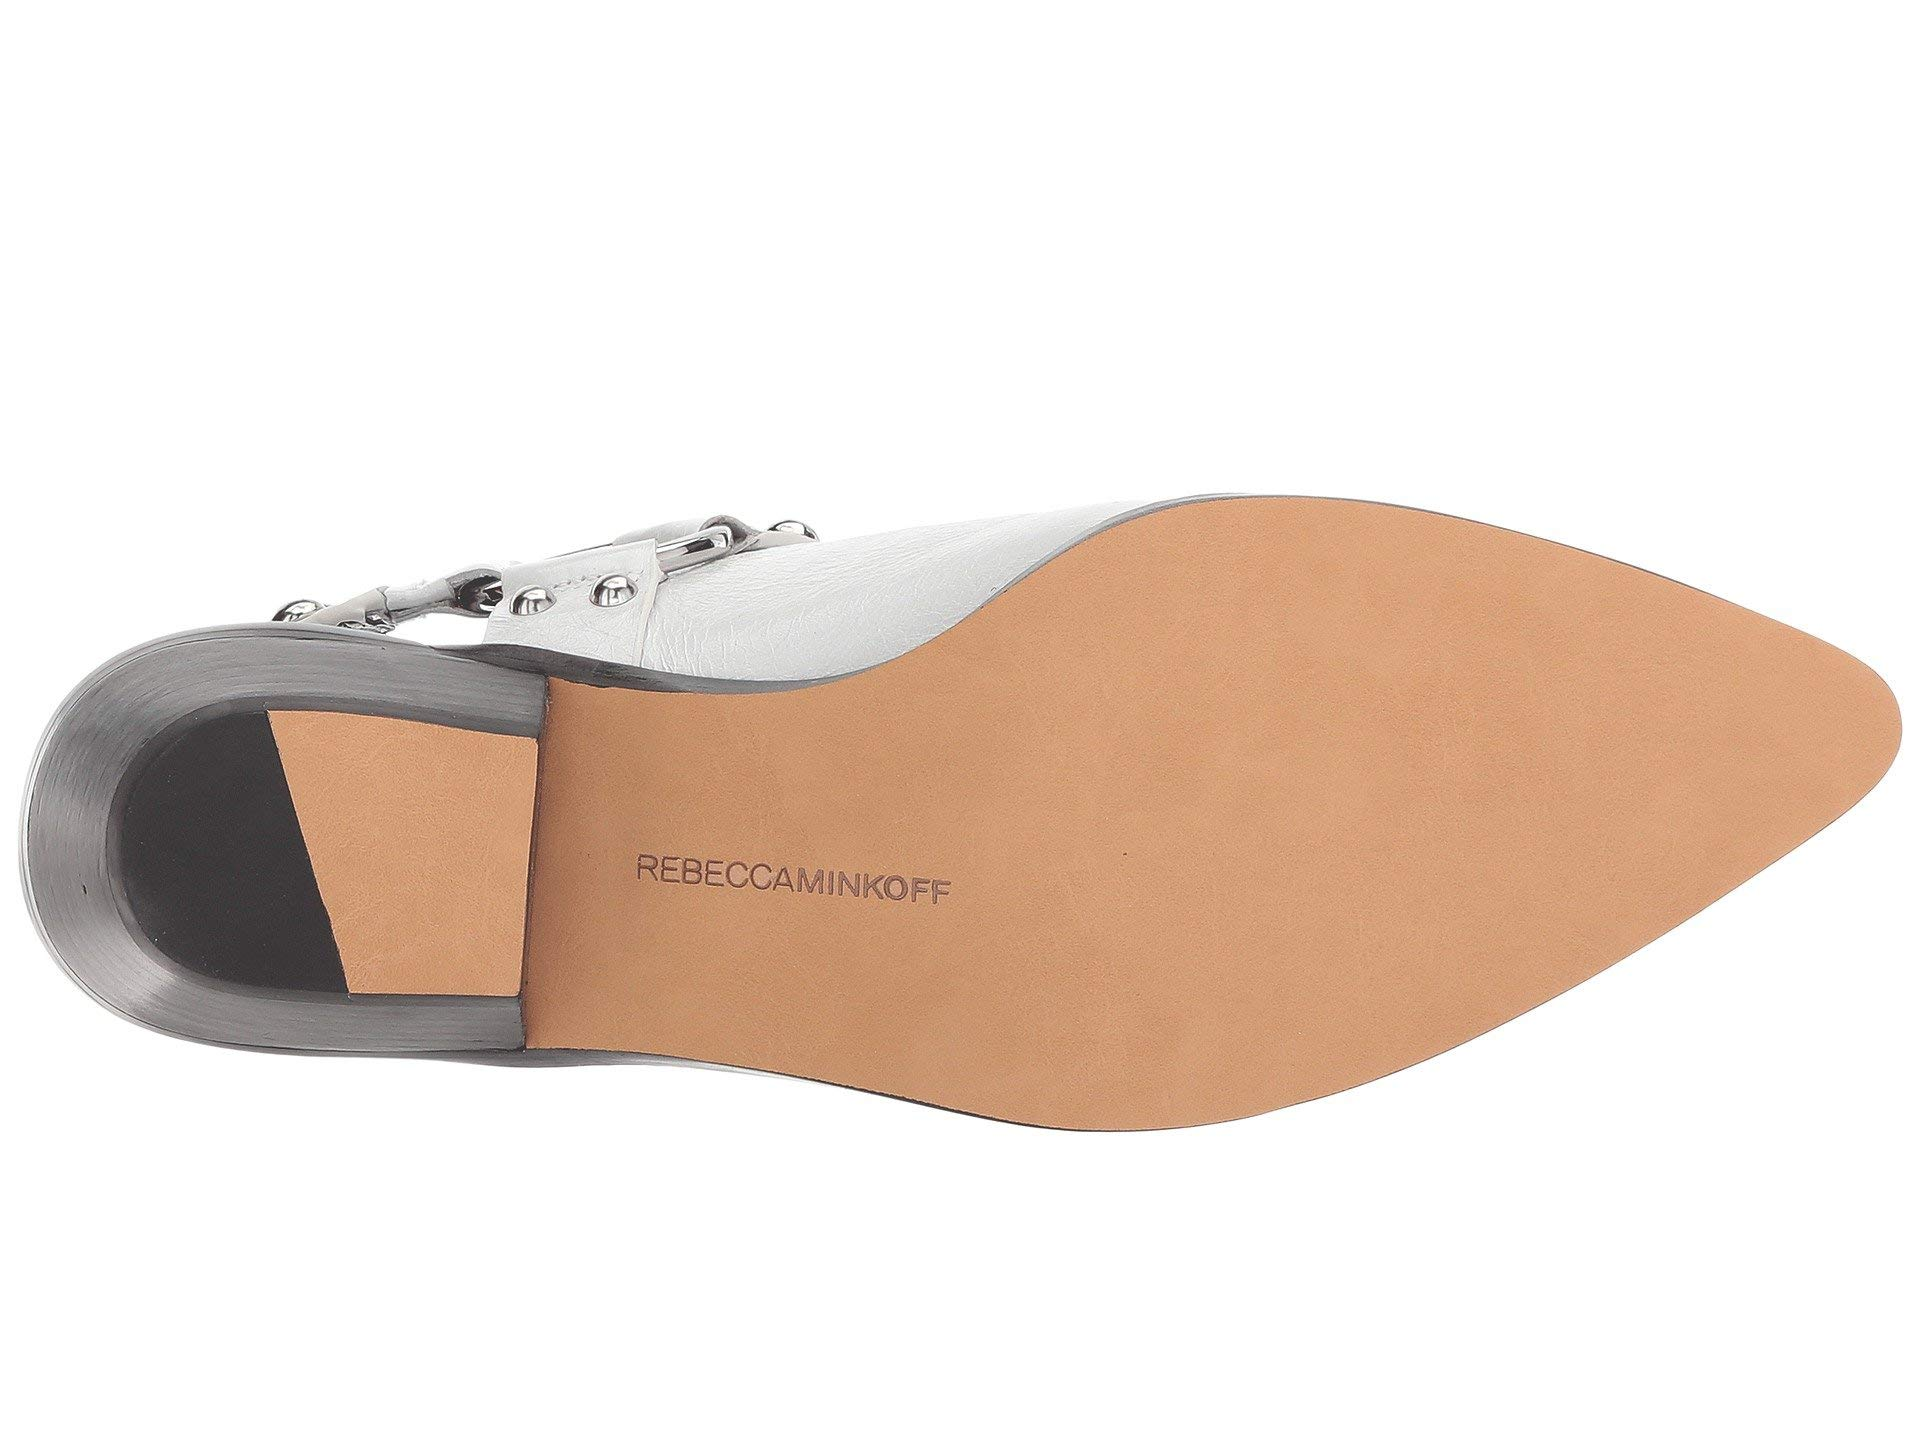circle: (615, 826, 977, 948)
exclude: (200, 458, 975, 635)
line: (237, 702, 568, 1012)
quad: (237, 702, 568, 1012)
text: (615, 826, 977, 948)
